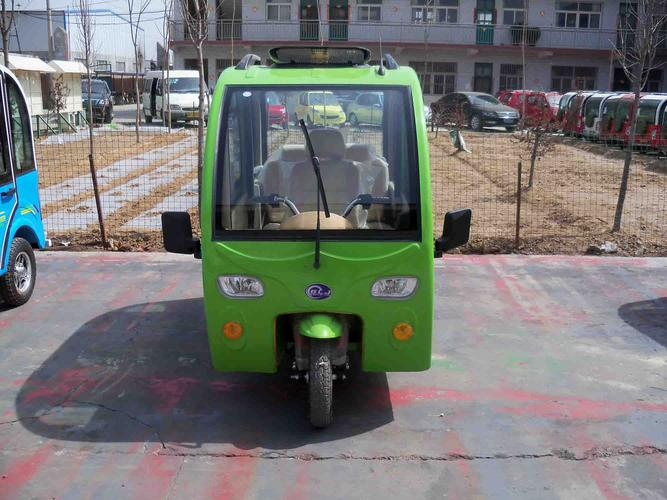empty: (171, 32, 459, 428)
